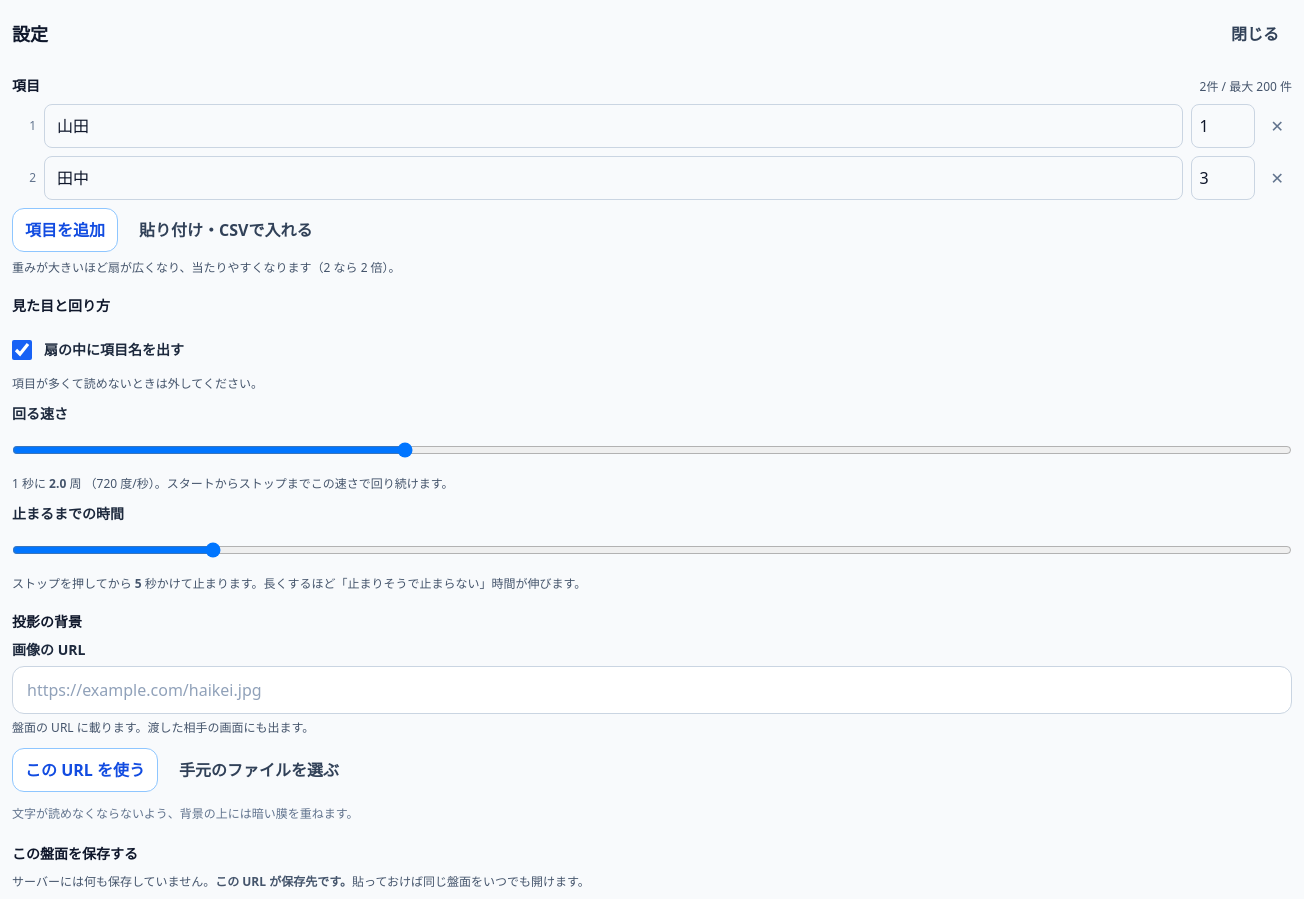
Test: 背景画像 › 画像として敷けない URL は断る
The width and height of the screenshot is (1304, 899).
In the field labelled "画像の URL": {"x": 652, "y": 690} x1=12 y1=666 x2=1292 y2=714, type "javascript:alert(1)"
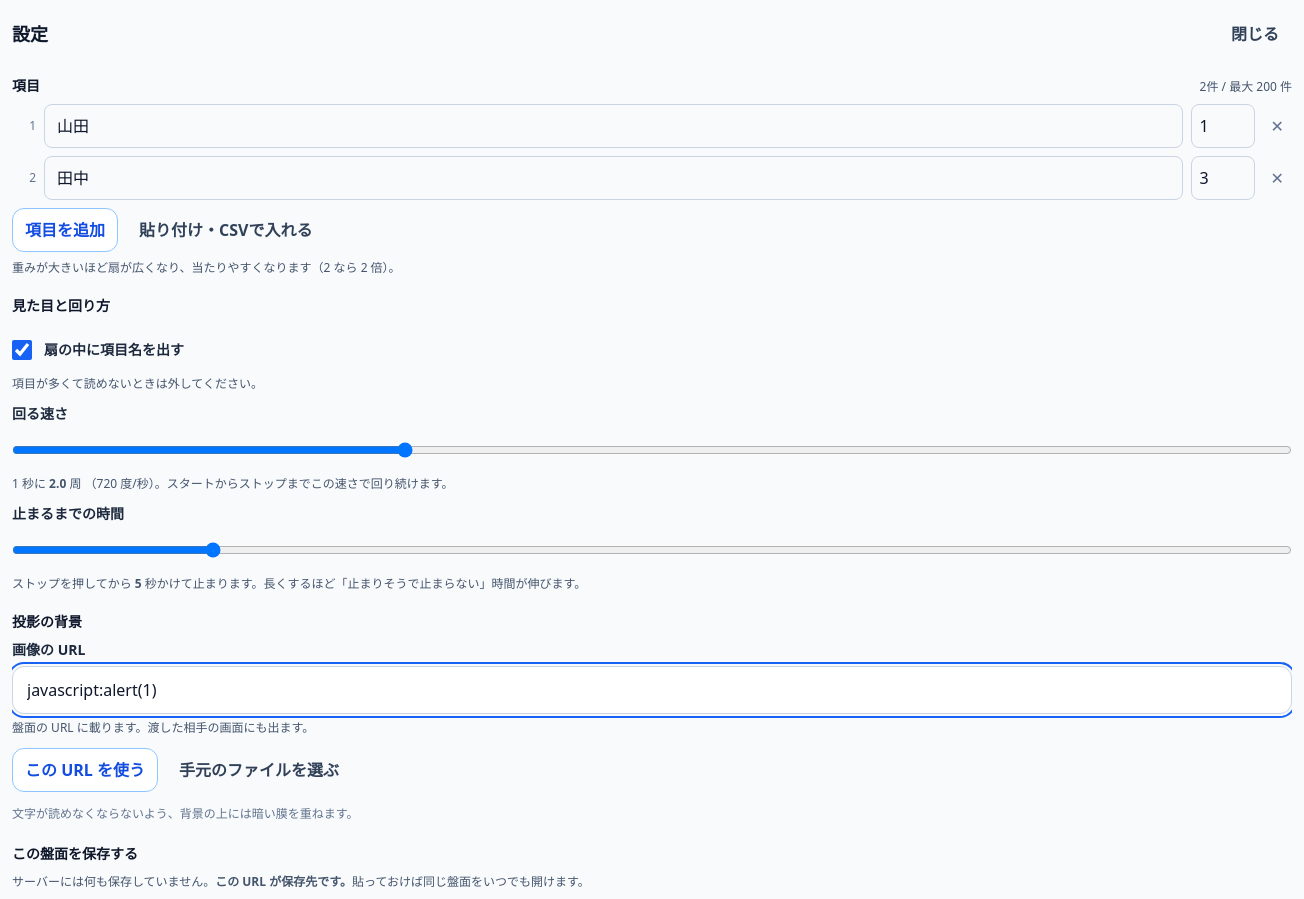
Click the button "この URL を使う": {"x": 85, "y": 770} x1=12 y1=748 x2=158 y2=792
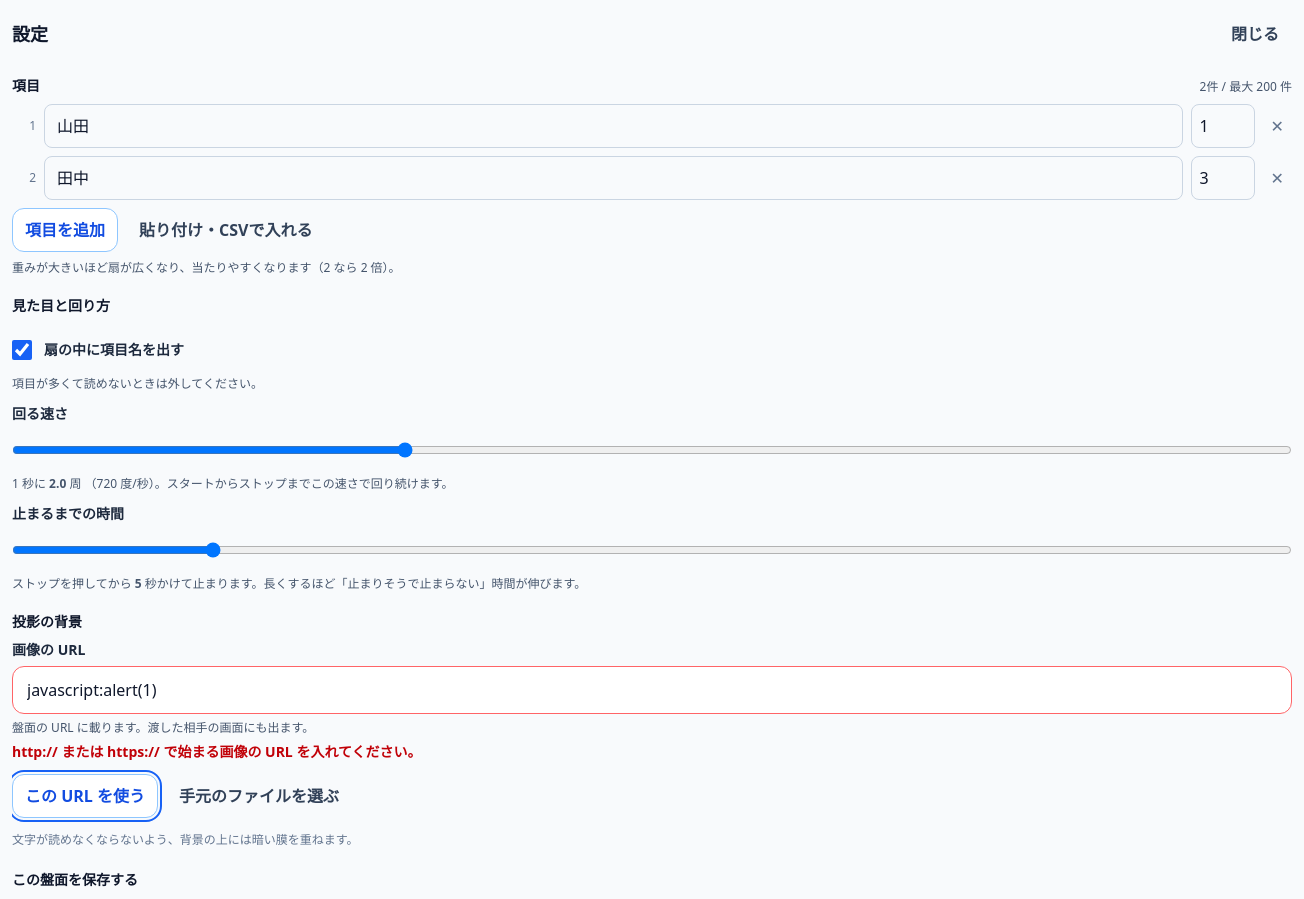
Expected: the text "http:// または https:// で始まる画像の URL を入れてください。" is shown, x1=12 y1=742 x2=422 y2=761
